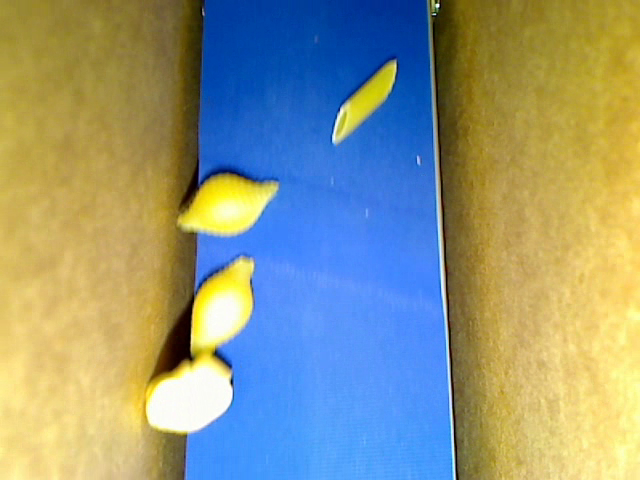penne: (332, 61, 397, 145)
shell: (177, 171, 278, 237), (189, 255, 253, 356)
